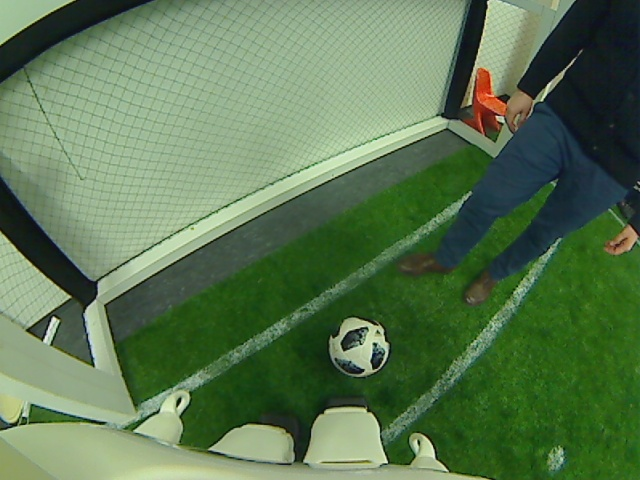ball: (327, 315, 389, 378)
